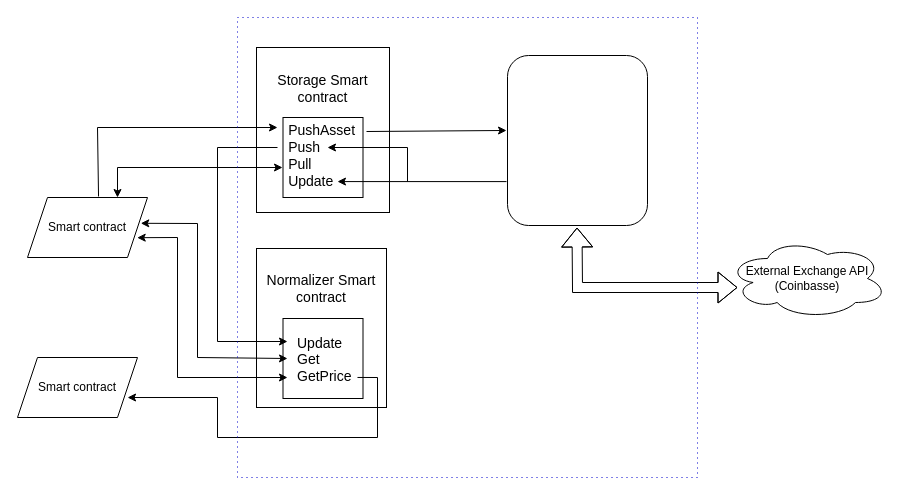
This 905x495 diagram has some shape labels left out. The shapes that lost their labels are listed below. From the top down, each one's box as (x1, y1, x2, y2) in pixels, then its label:
(506, 54, 648, 226): Poster Server Event Polling Get Price and feed from off-chain API
(236, 16, 698, 478): Tezos Oracle System
